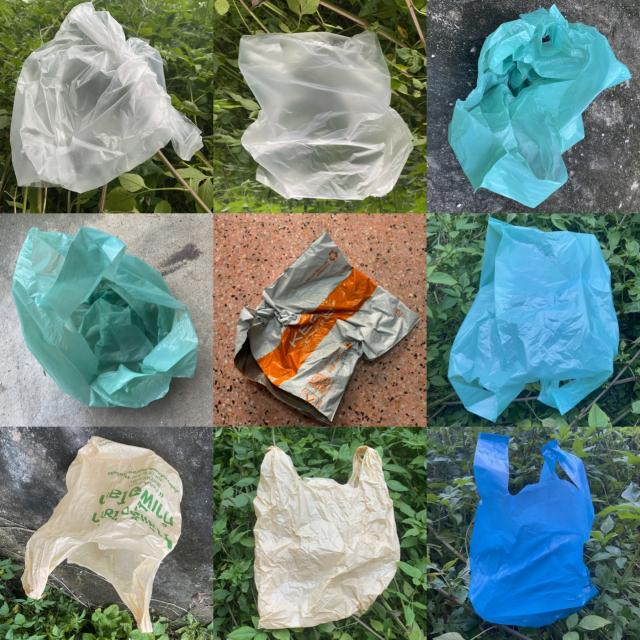Single-layer Plastic: (449, 5, 631, 207), (10, 2, 202, 192), (235, 231, 419, 422), (449, 218, 619, 421), (12, 228, 198, 408), (21, 436, 182, 632), (239, 31, 412, 200), (254, 446, 400, 629), (469, 432, 598, 627)
